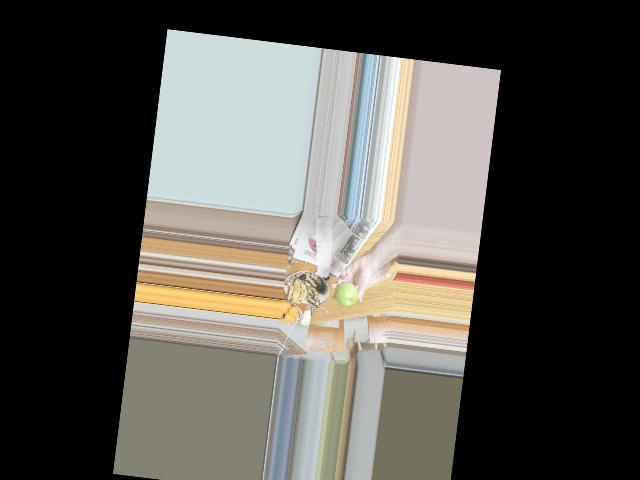apple: (333, 279, 359, 308)
